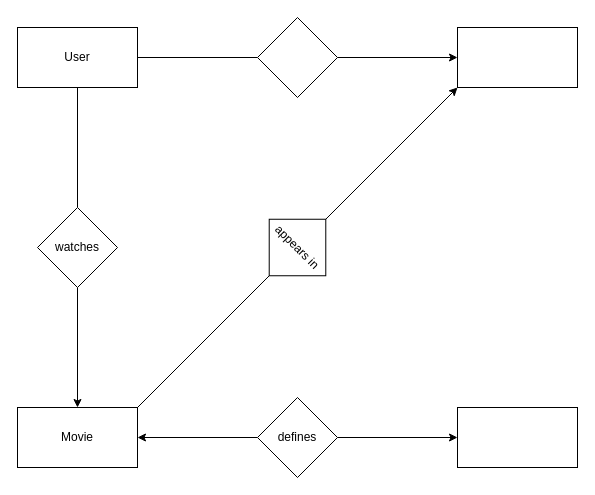
Image size: 595x495. Some labels were removed from this diagram. Each missing label, with the centre of its shape:
Genre: (x=517, y=437)
Views: (x=297, y=57)
WatchHistory: (x=517, y=57)
